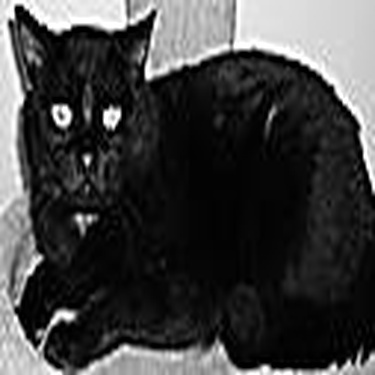cat: (9, 7, 372, 373)
